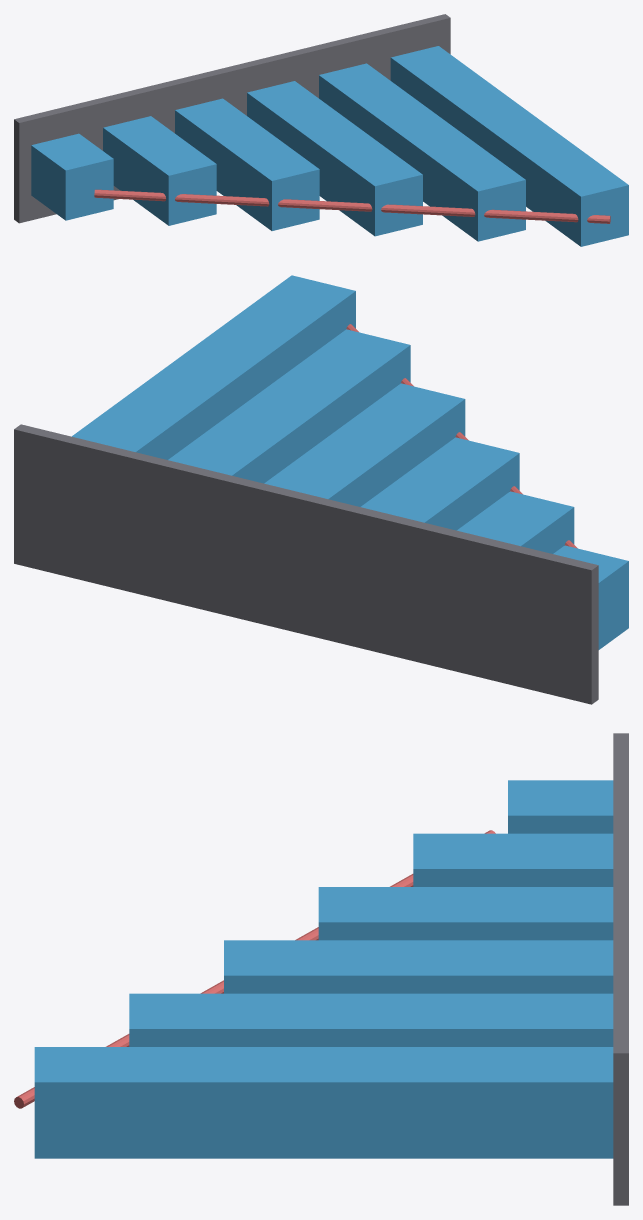
The model's file is tarif_ojek_3d.glb.
3 renders of one model, top to bottom at view 1: azimuth 30°, elevation 25°; view 2: azimuth 150°, elevation 25°; view 3: azimuth 270°, elevation 25°, orthographic. The views are drawn at different scales.
Visible parts, largest first — view 1: world; view 2: world; view 3: world.
Part boxes in pixels (<box>): world: <box>14,14,628,246</box>; world: <box>14,275,628,704</box>; world: <box>14,733,628,1205</box>.
Size of the model in its own units: 7.2 by 1.6 by 5.85.
